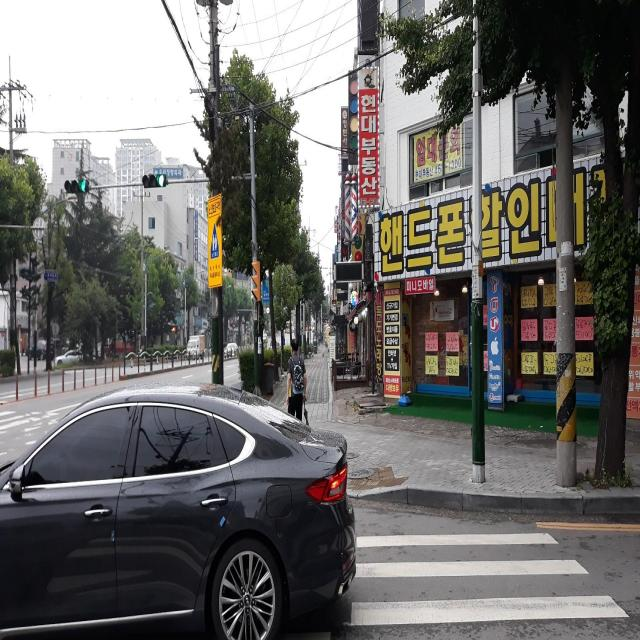횡단보도: (342, 510, 636, 638)
